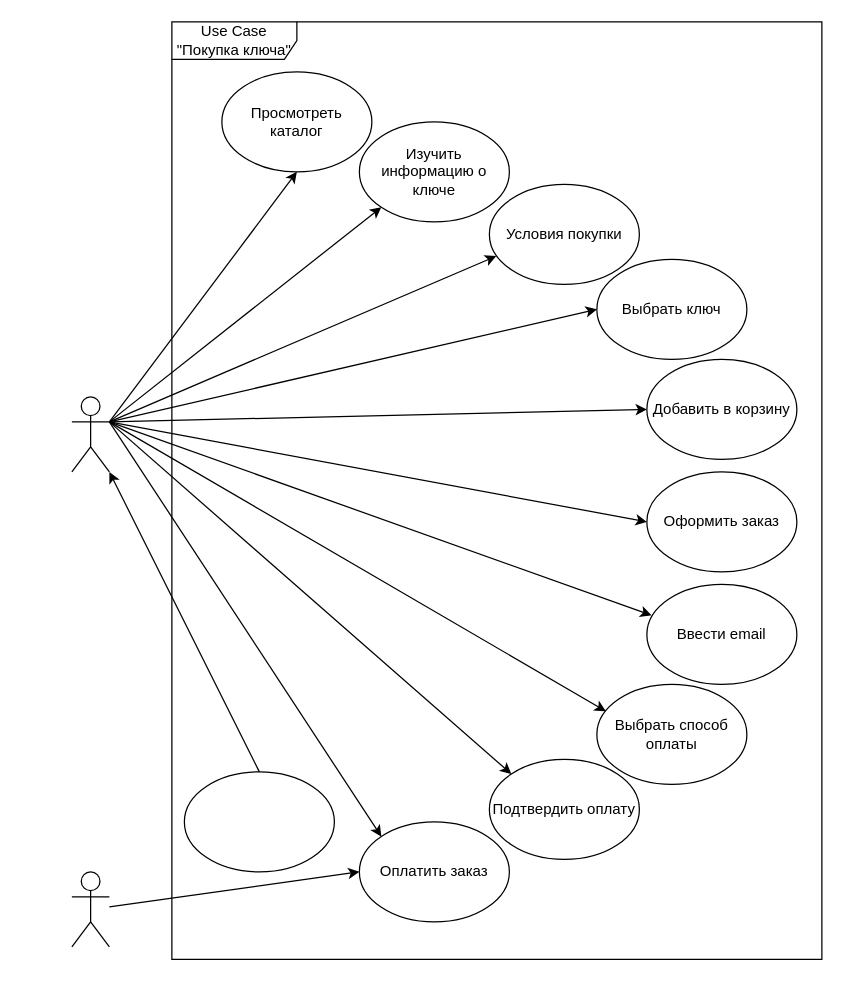
Some shapes in this 844 by 995 pixel diagram are drawn without their labels. The box of each missing label's shape, as (x1, y1, x2, y2) in pixels:
Клиент: (71, 396, 109, 472)
Платежная система: (71, 871, 109, 947)
Получить ключ: (183, 771, 334, 872)
